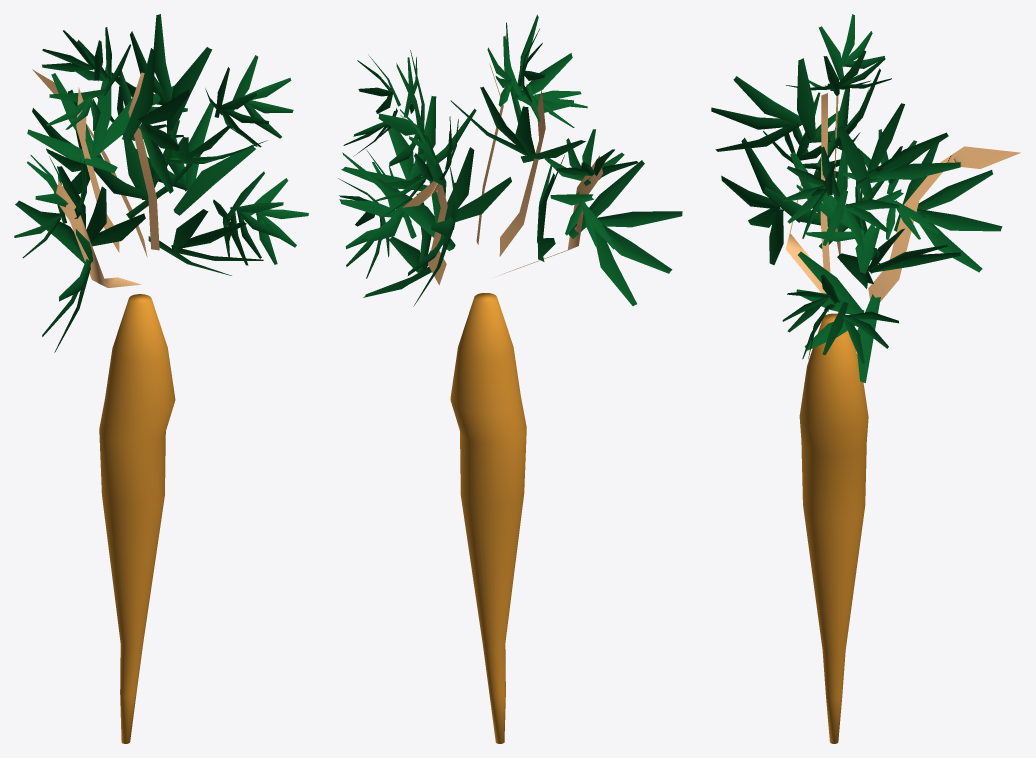
The model's file is carrot.fbx.
3 views of the same model, side by side, from view 1: azimuth 30°, elevation 25°; view 2: azimuth 150°, elevation 25°; view 3: azimuth 270°, elevation 25° (orthographic). The views are drawn at different scales.
Parts seen in each view (by area): view 1: Cylinder; view 2: Cylinder; view 3: Cylinder.
Part boxes in pixels (box(x1,y1,x2,y2)): Cylinder: box(14, 14, 308, 743); Cylinder: box(338, 14, 682, 743); Cylinder: box(711, 14, 1020, 743).
Size of the model in its own units: 136 by 311 by 124.
